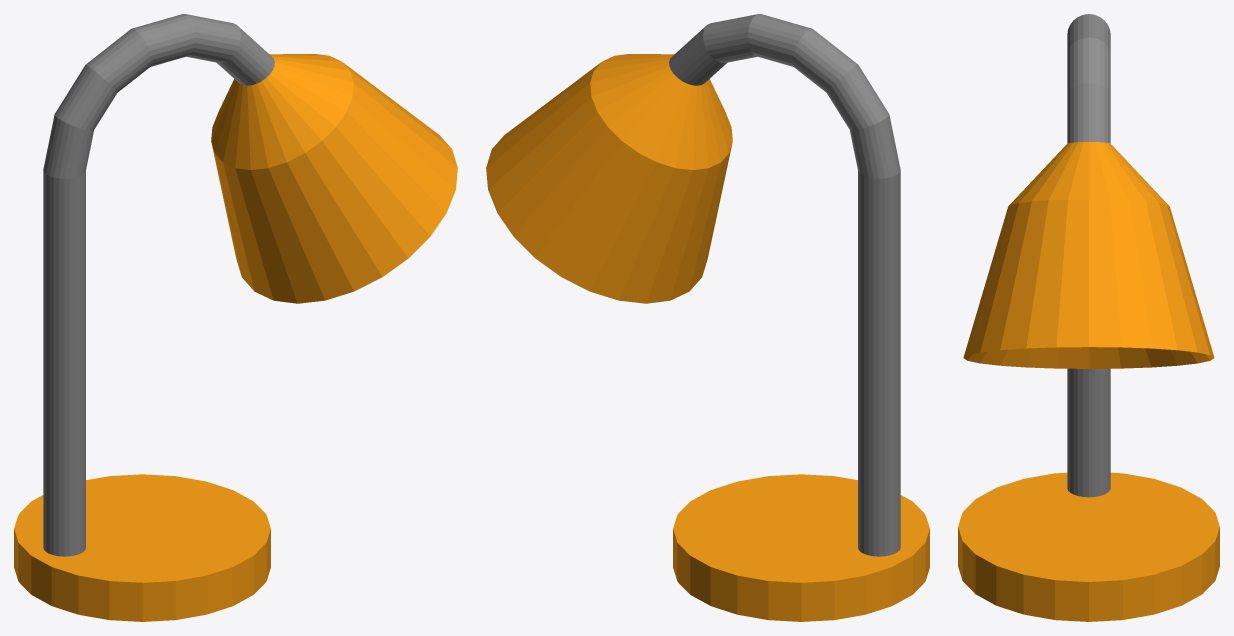
File: lamp2.glb
The picture shows the model from 3 angles, left to right: view 1: azimuth 30°, elevation 25°; view 2: azimuth 150°, elevation 25°; view 3: azimuth 270°, elevation 25°; orthographic projection.
Visible parts, largest first — view 1: Cube; view 2: Cube; view 3: Cube.
Part boxes in pixels (bbox=[...]): Cube: bbox=[14, 14, 457, 621]; Cube: bbox=[486, 14, 929, 621]; Cube: bbox=[958, 14, 1219, 621].
Size of the model in its own units: 0.6332 by 0.8023 by 0.345.
2 materials, 2 textured.
